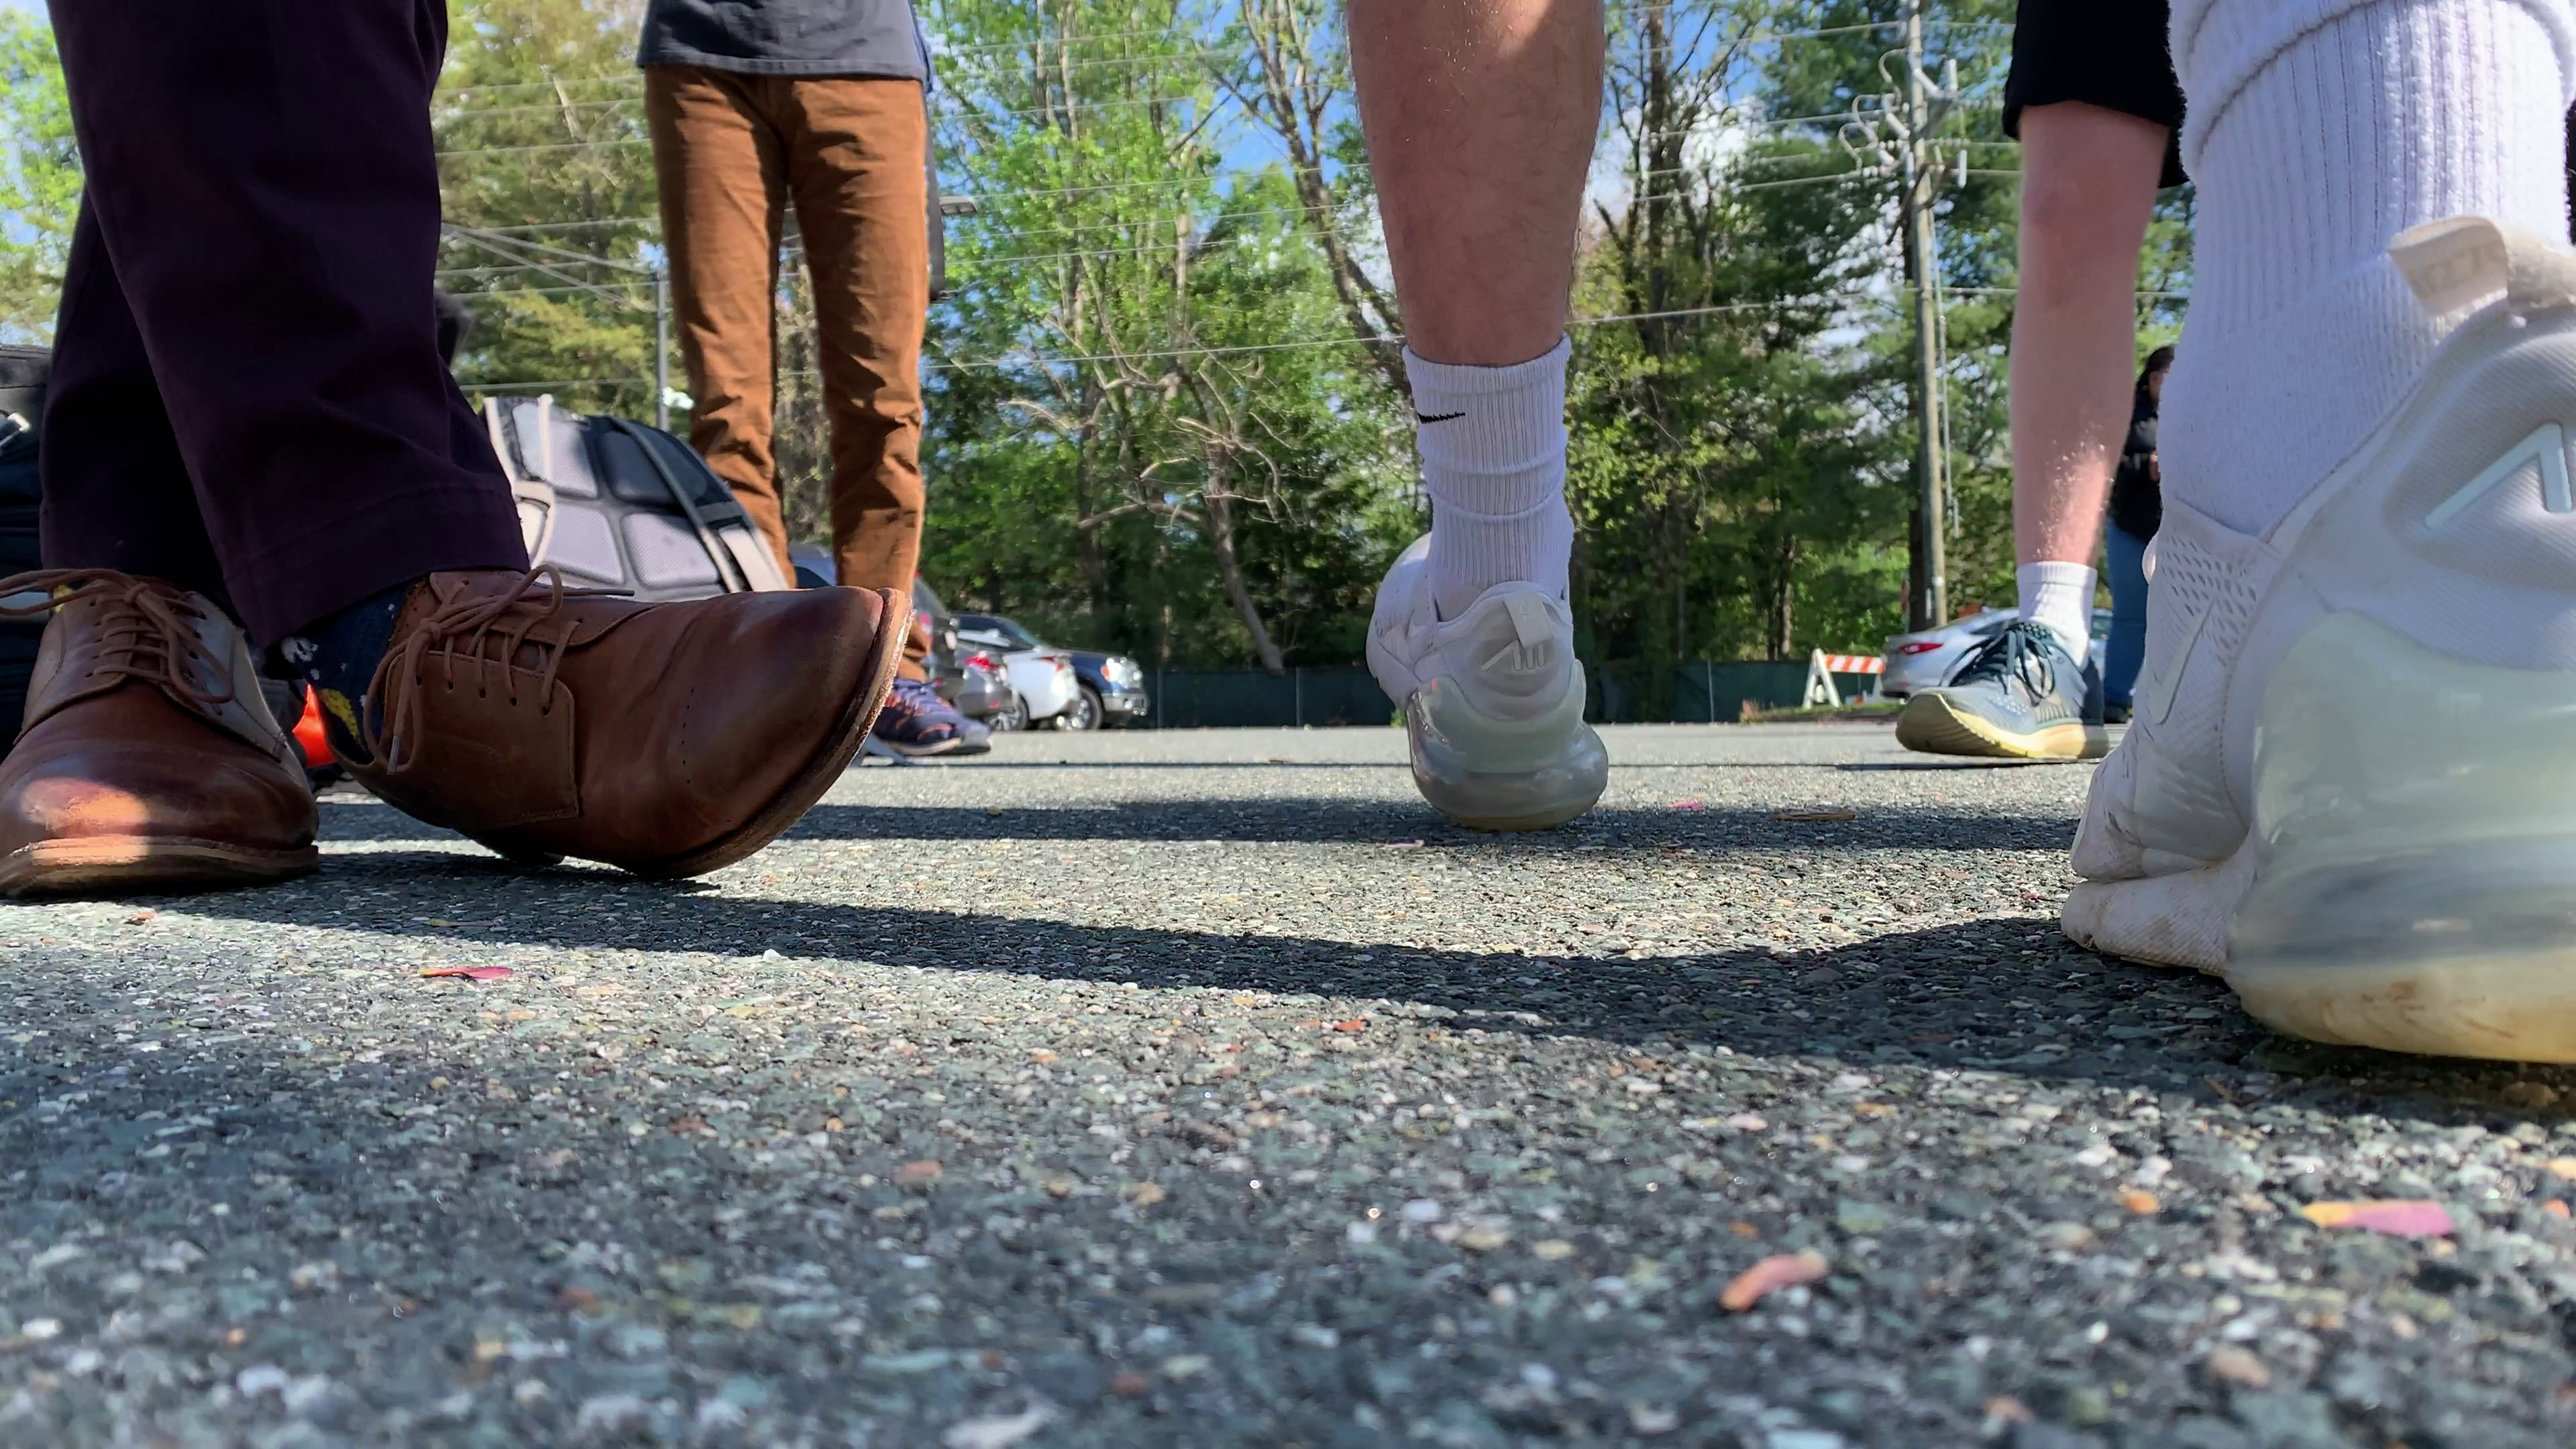shoe: (2063, 294, 2576, 1067), (324, 570, 908, 881), (0, 582, 318, 888), (1357, 533, 1608, 828), (1898, 619, 2107, 759), (844, 678, 993, 757)
